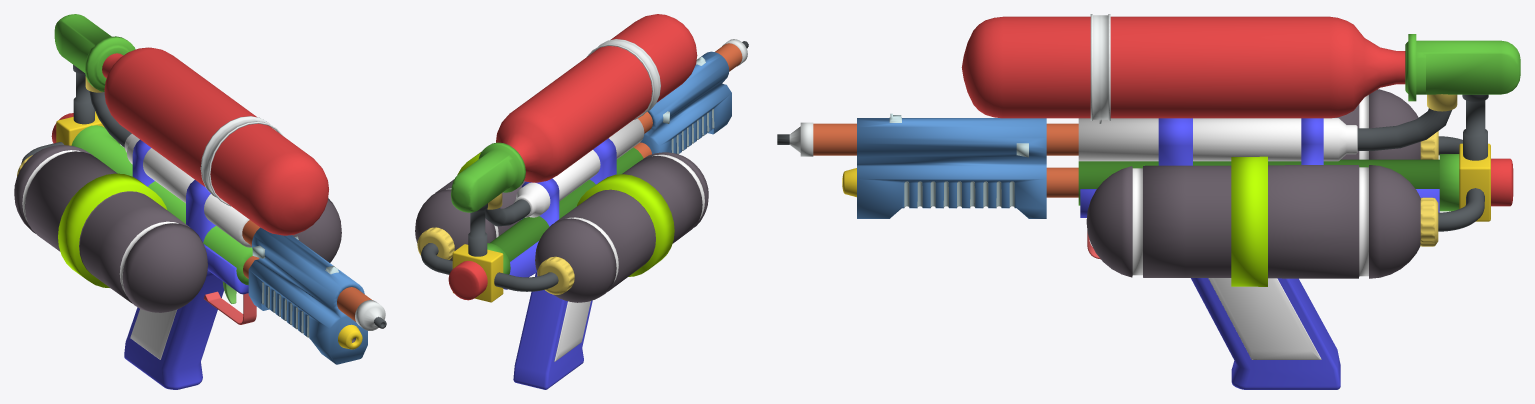
Rendered from Watergun17.fbx.
3 views of the same model, side by side, from view 1: azimuth 30°, elevation 25°; view 2: azimuth 150°, elevation 25°; view 3: azimuth 270°, elevation 25° (orthographic). The views are drawn at different scales.
Visible parts, largest first — view 1: Watergun17; view 2: Watergun17; view 3: Watergun17.
Part boxes in pixels (x1,y1,x2,y2): Watergun17: (14, 14, 386, 389); Watergun17: (415, 14, 748, 389); Watergun17: (777, 14, 1520, 389).
Bounding box in the file's own units: 0.178 × 0.2283 × 0.4254.
